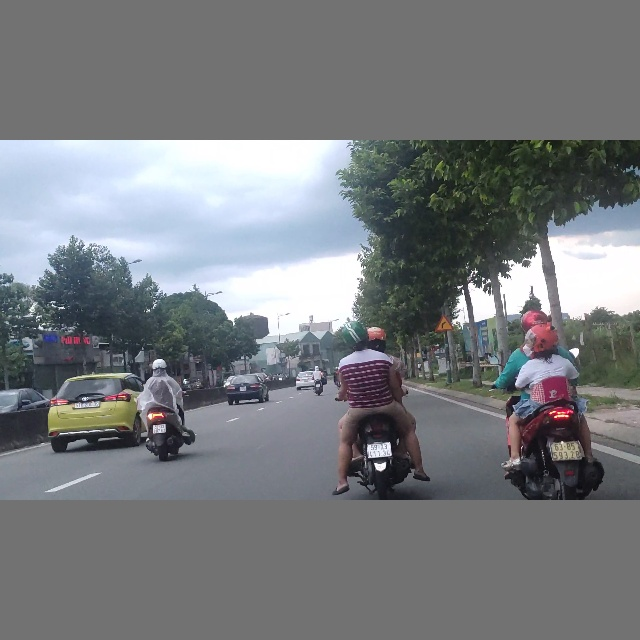W.201b: (434, 315, 454, 332)
